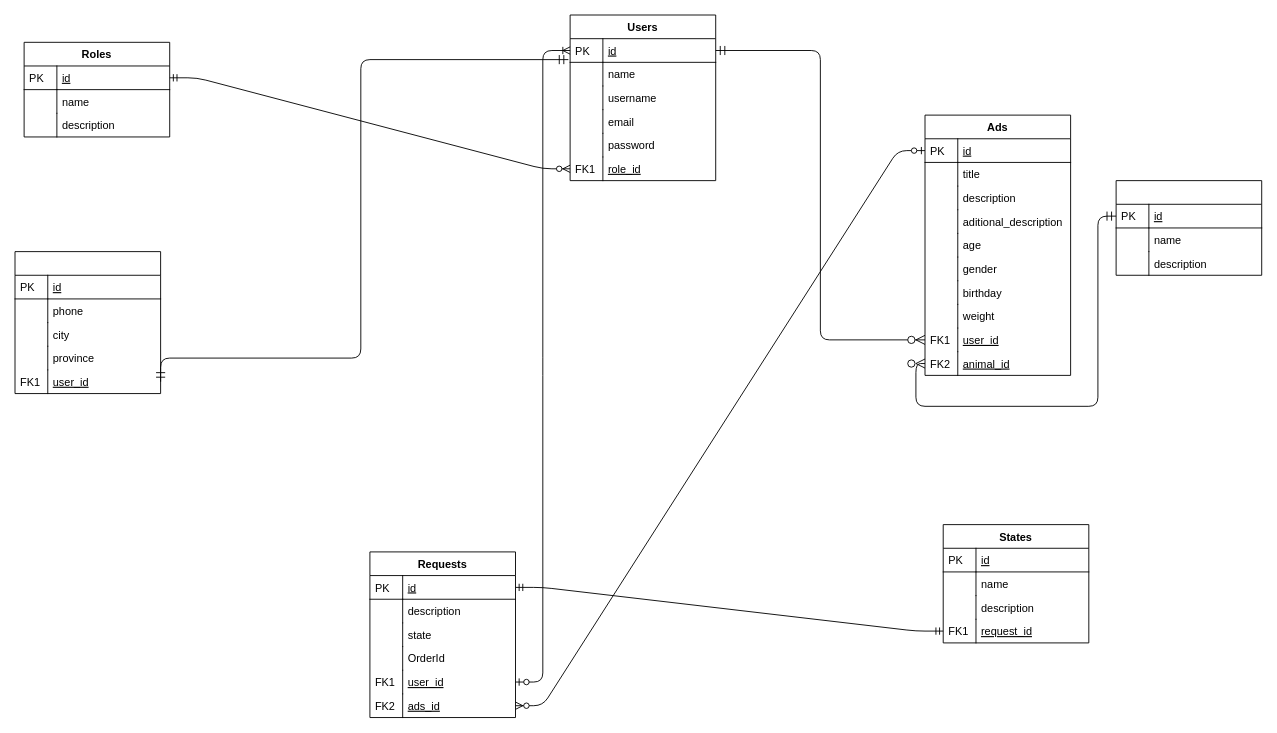
The diagram is 1277 pixels wide and 733 high, and some of its shapes have lost their labels. Here are the shapes that lost their labels. From the top down, the box of each, then its label:
(1115, 180, 1262, 275): Animal
(14, 251, 161, 394): Profile
